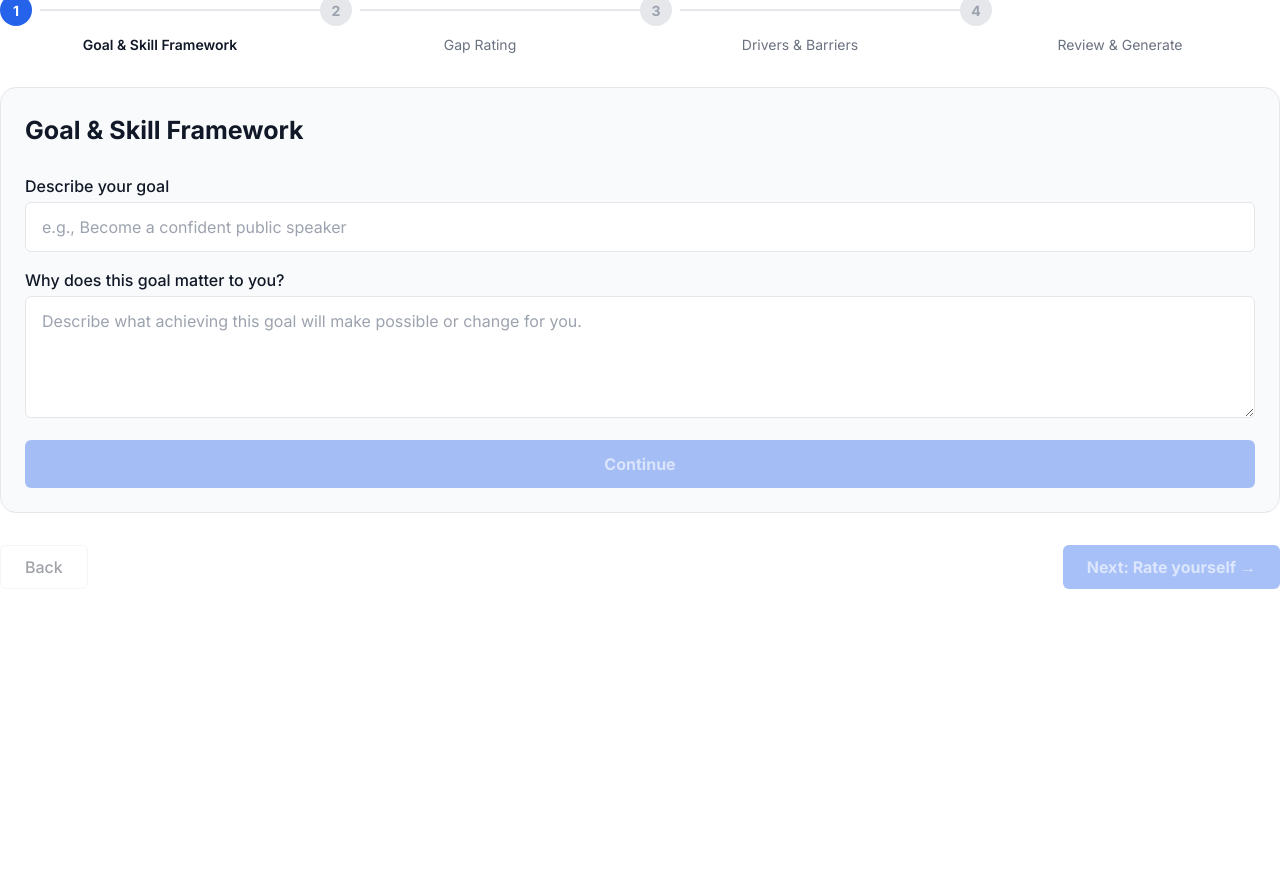
Test case: GoalWizard › Advance gating › labels the Step 1 advance button 'Next: Rate yourself →' (epics AC)
In the field labelled "Describe your goal": (640, 226) [25, 202, 1255, 252], type "Learn to swim"
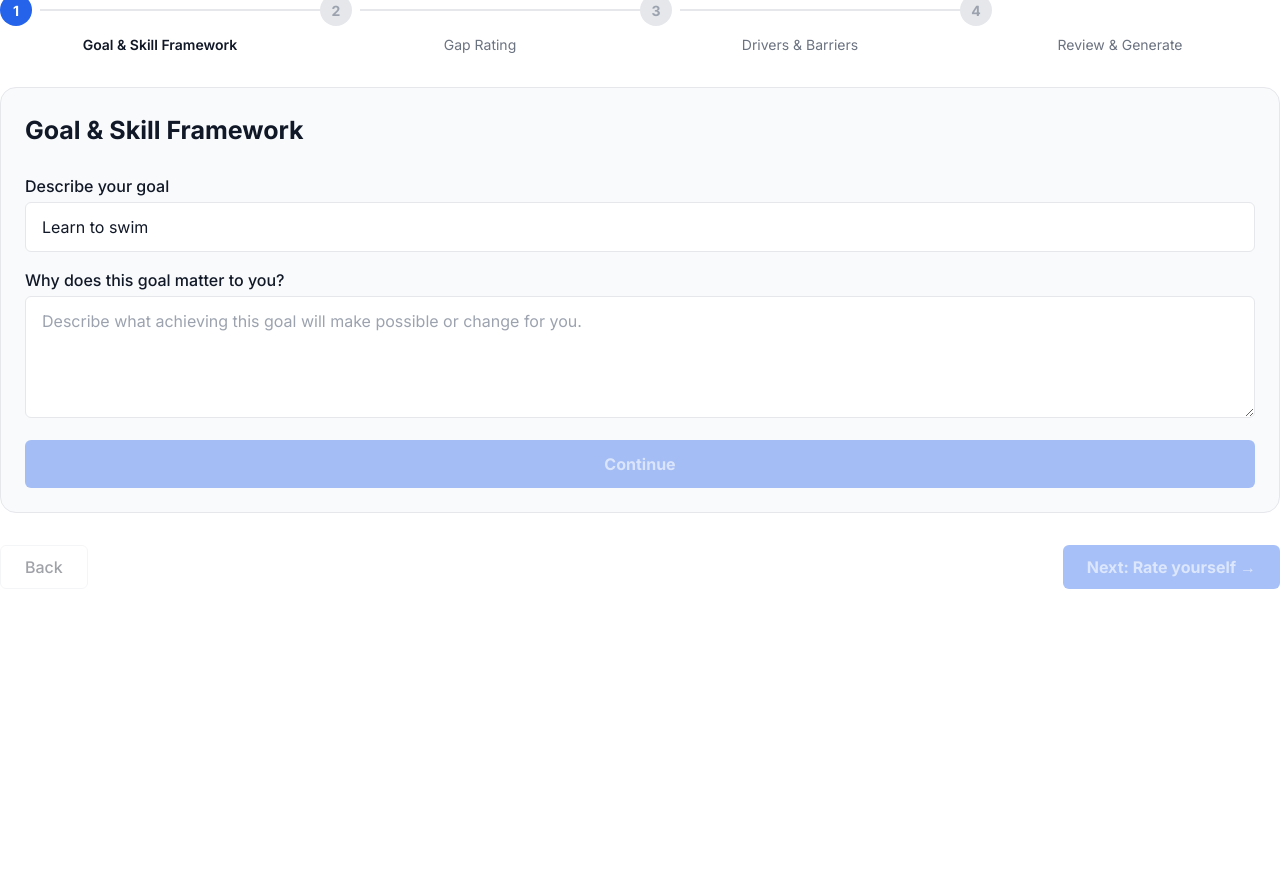
Replace the text in the text box labelled "Why does this goal matter to you?" with "This matters because it supports a meaningful life direction.": (640, 356) [25, 296, 1255, 418]
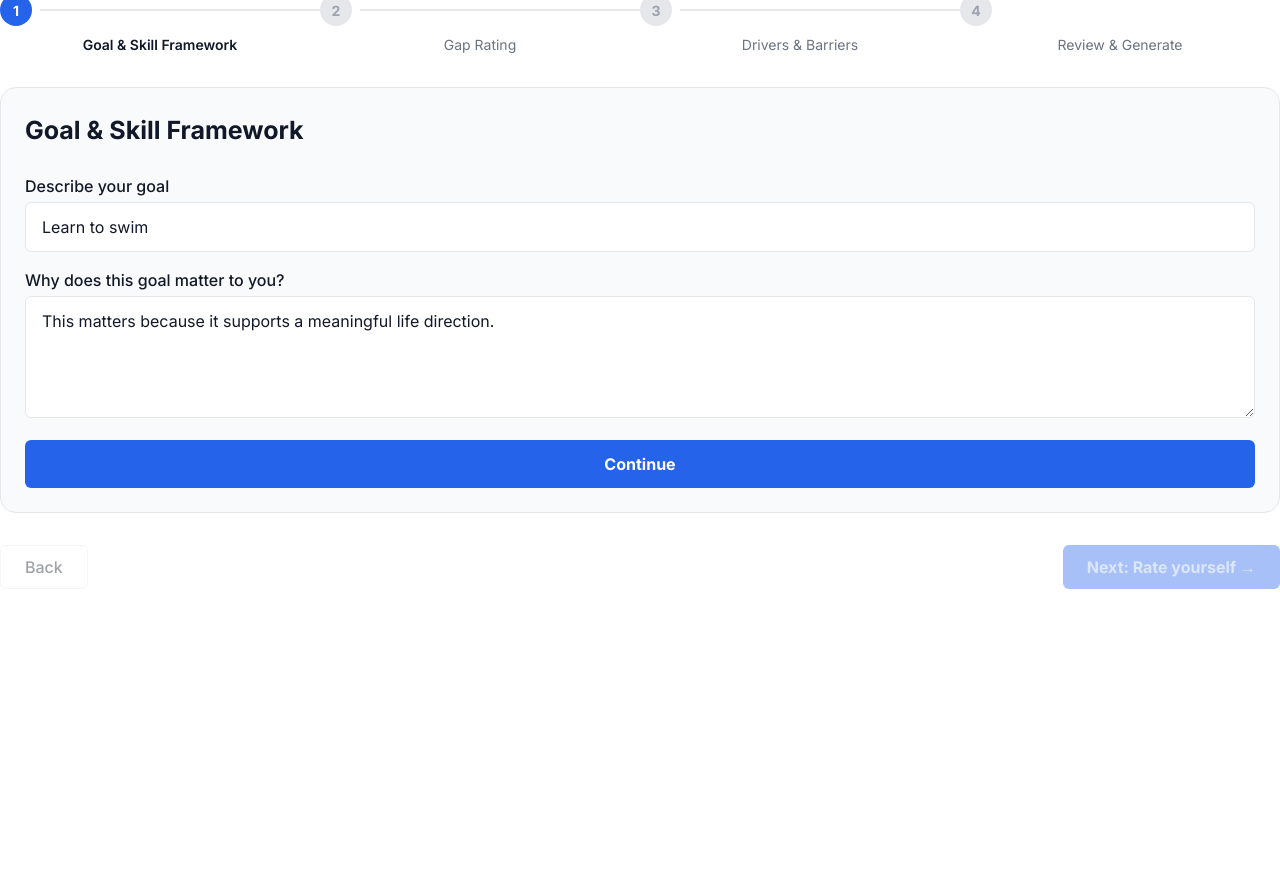
Click the button "Continue": (640, 464) [25, 440, 1255, 488]
(page scrolled)
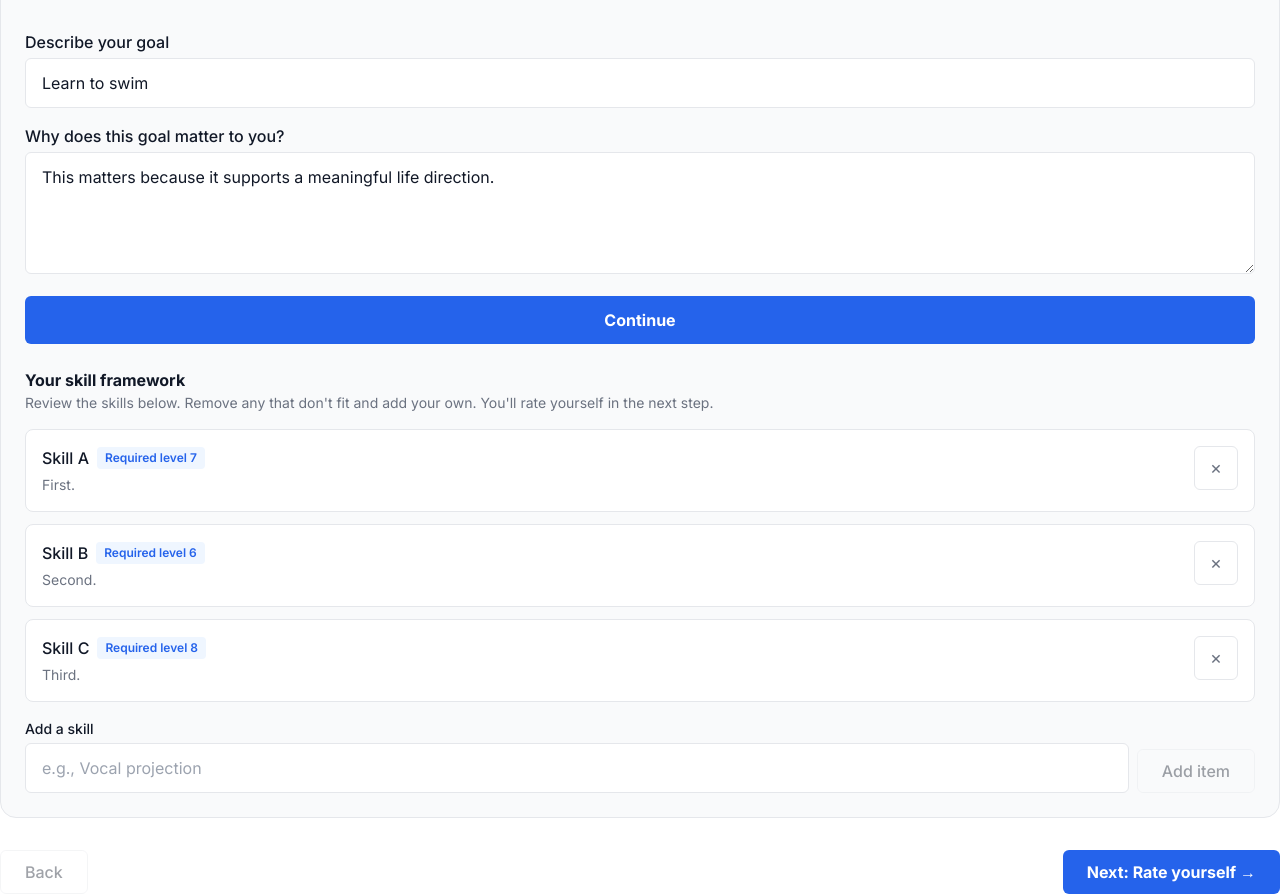
Expected: the button "Next: Rate yourself →" is shown, [1063, 850, 1279, 893]
Expected: the heading "Your skill framework" is shown, [25, 370, 185, 390]
